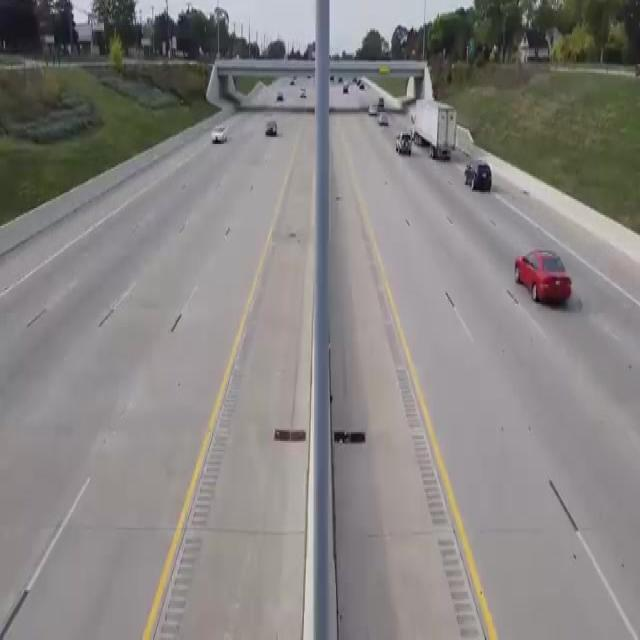car: (505, 250, 594, 312), (392, 95, 419, 172), (464, 157, 499, 201), (196, 118, 236, 149), (262, 112, 285, 146), (377, 106, 400, 135), (377, 93, 391, 112), (363, 102, 378, 115), (274, 96, 288, 105)
truck: (409, 91, 457, 160)
